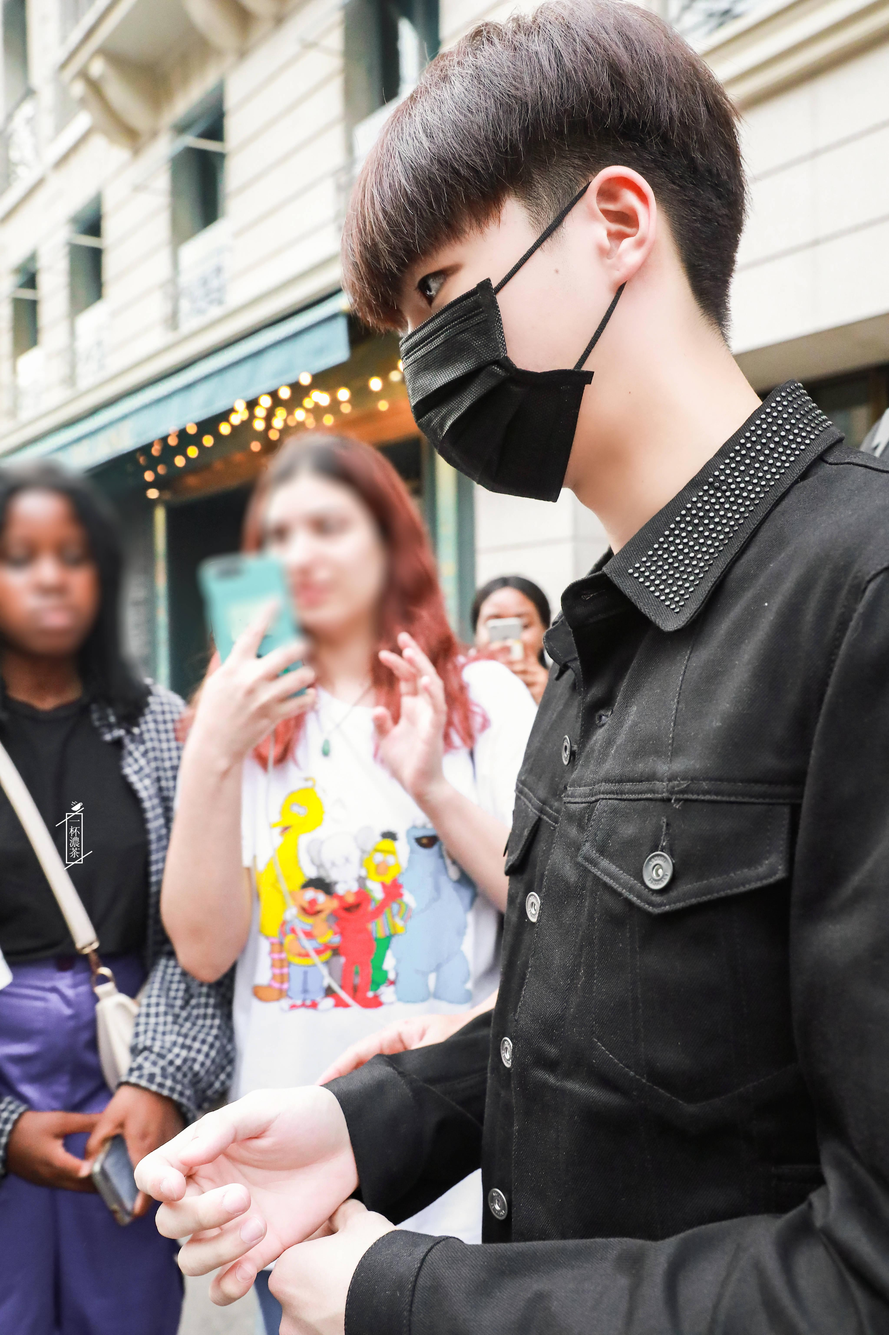NONE: (0, 511, 103, 655), (261, 496, 360, 630), (482, 606, 539, 677)
OK: (390, 224, 577, 504)
